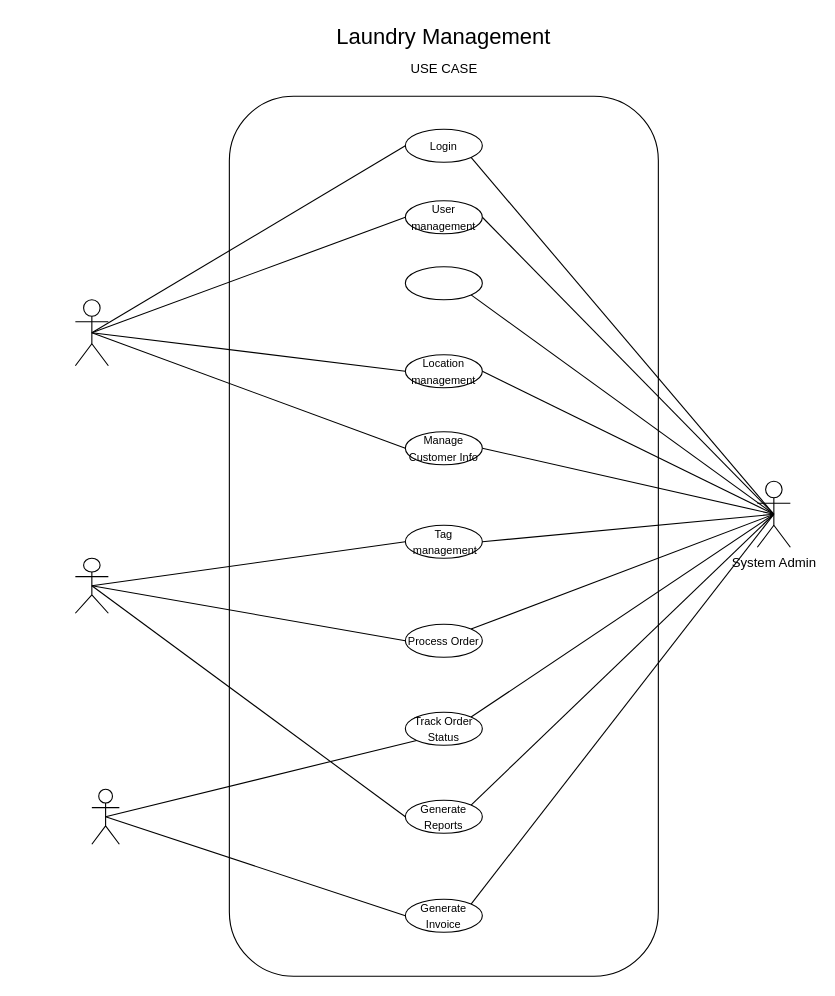
Some shapes in this 835 by 996 pixel diagram are drawn without their labels. The centre of each missing label's shape, as x and y in pixels:
"Machine Operator ironer, Dryer, Washer,Packing" belongs at (x=91, y=585).
"Manager" belongs at (x=91, y=332).
"POS" belongs at (x=105, y=816).
"Role management" belongs at (x=443, y=283).
